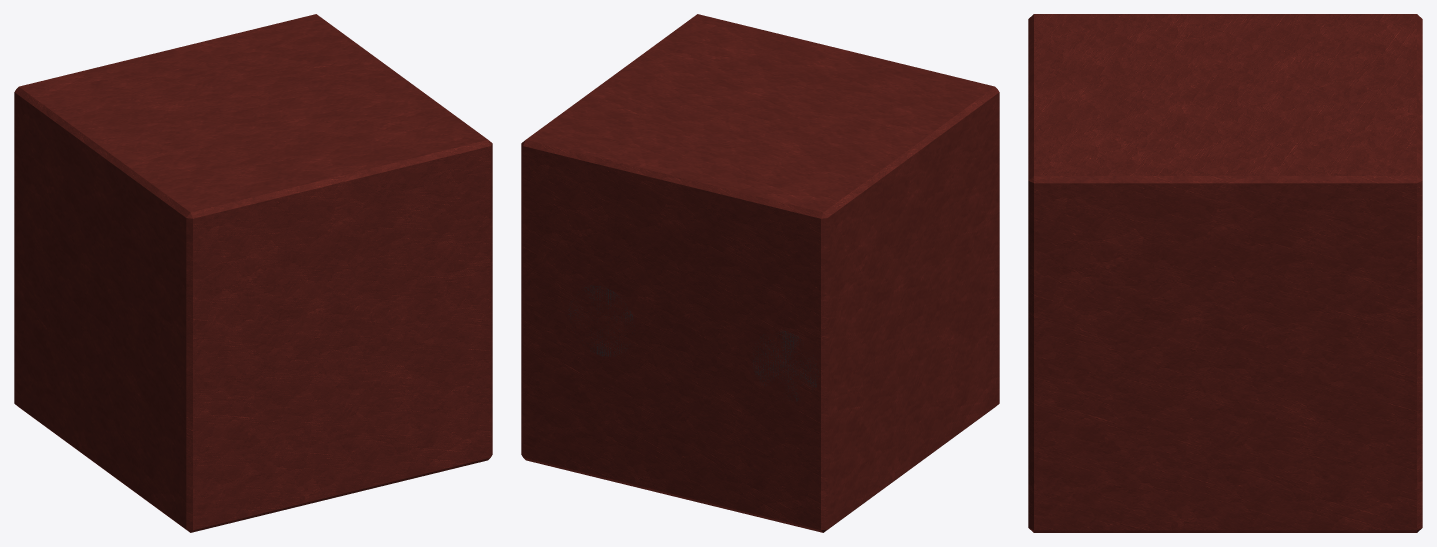
The model's file is train_buffer_beam.gltf.
The picture shows the model from 3 angles, left to right: view 1: azimuth 30°, elevation 25°; view 2: azimuth 150°, elevation 25°; view 3: azimuth 270°, elevation 25°; orthographic projection. The views are drawn at different scales.
Size of the model in its own units: 1 by 1 by 1.
3 materials, 3 textured.
